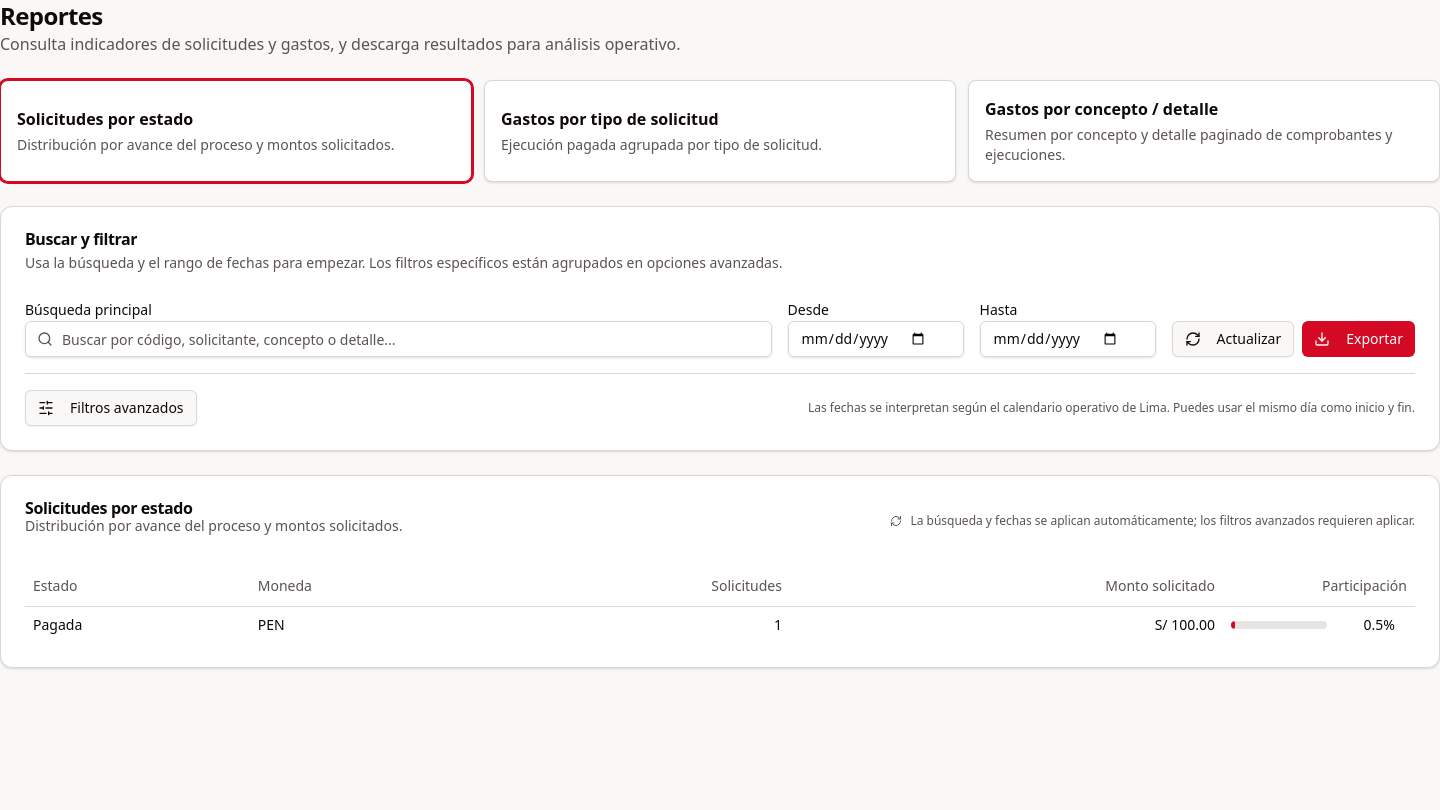
Test: ReportsPageView › oculta filtros avanzados por defecto y muestra contador al aplicar búsqueda
Click the button with test id "advanced-filters-toggle": (111, 408) [25,390,197,426]
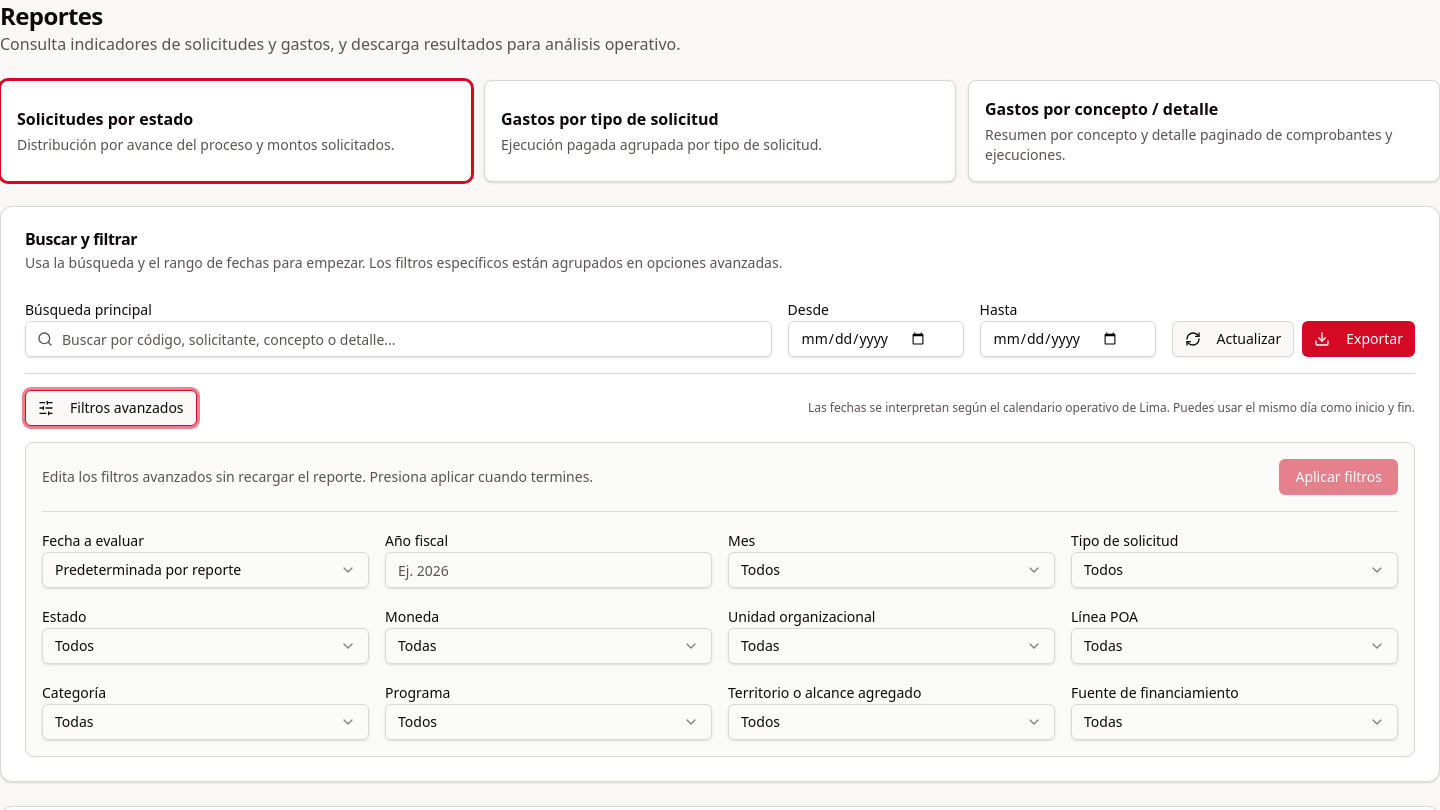
Check: the element with test id "advanced-filters-panel" is shown, box [25,442,1415,757]
In the field labelled "Búsqueda principal": (398, 339) [25,321,772,357], type "materiales"
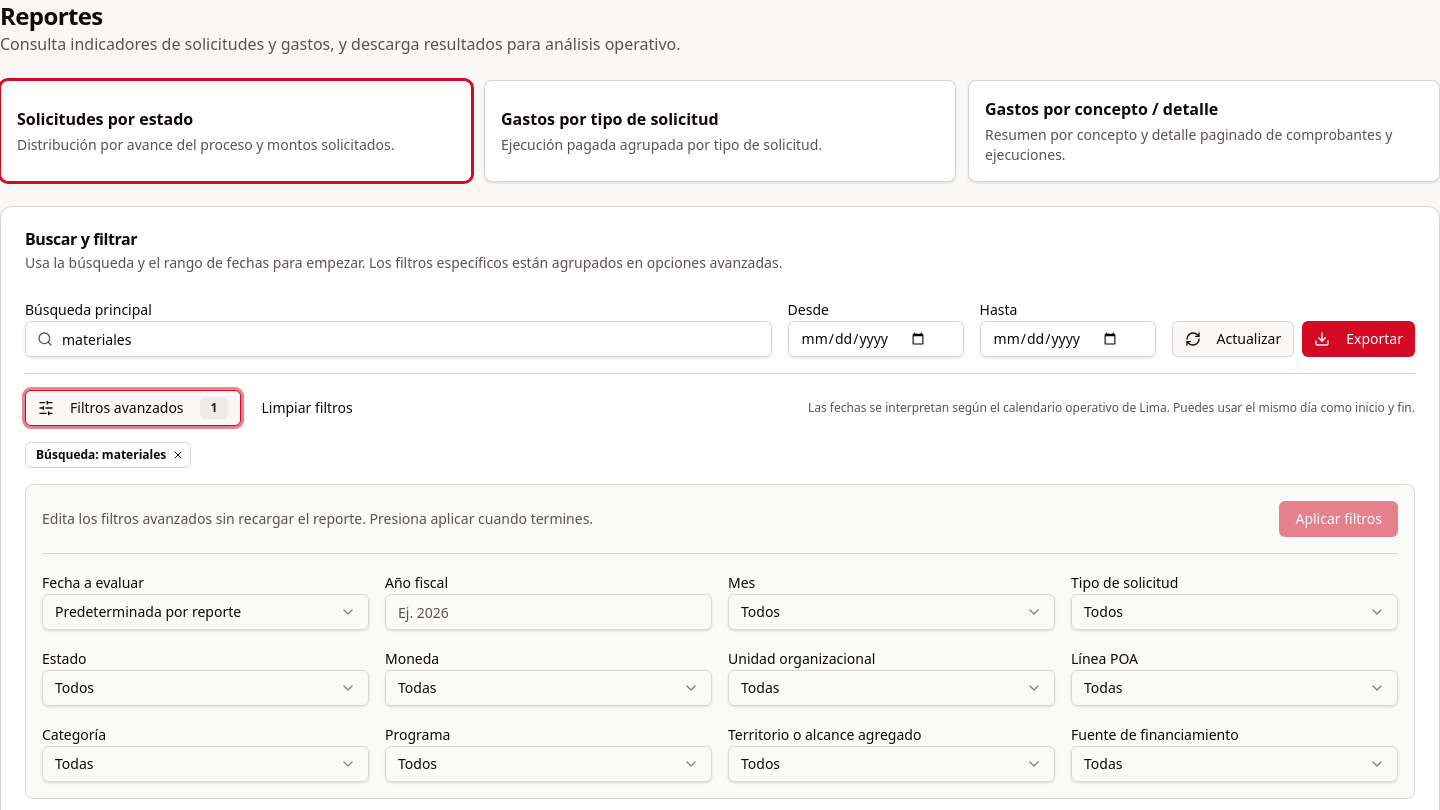
Check: the text with test id "active-filter-count" reads "1", box [211,399,218,416]
Check: the text "Búsqueda: materiales" is shown, box [25,442,191,468]
